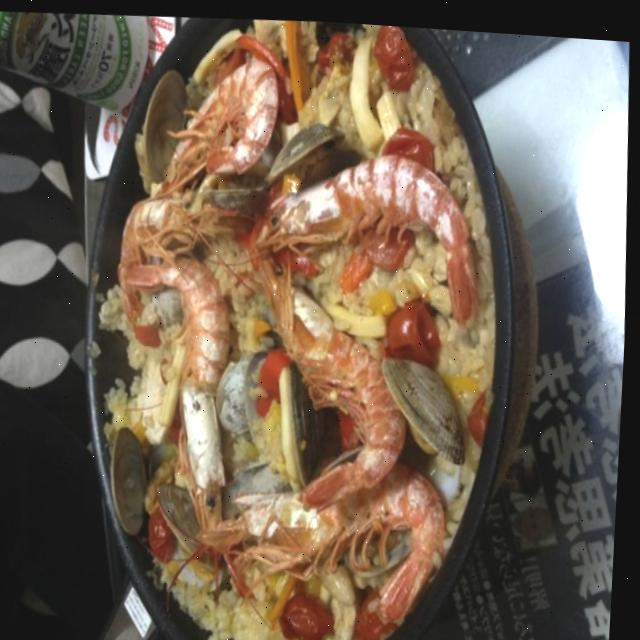汤锅炖物: (0, 1, 561, 640)
